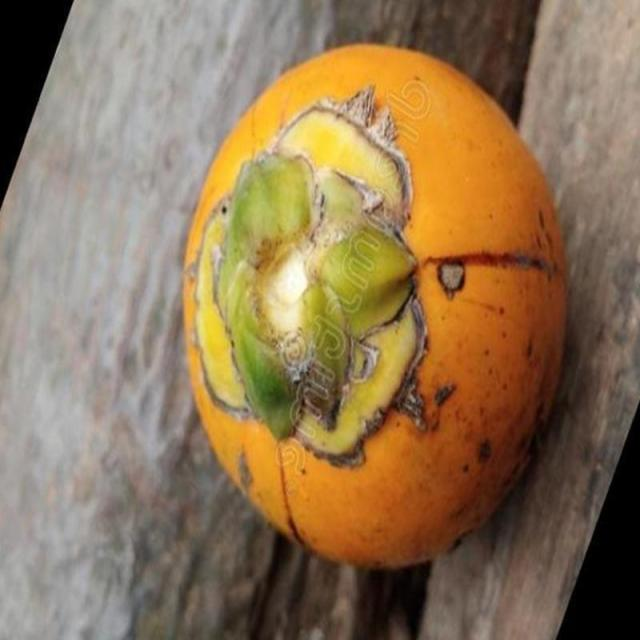good: (180, 47, 568, 572)
